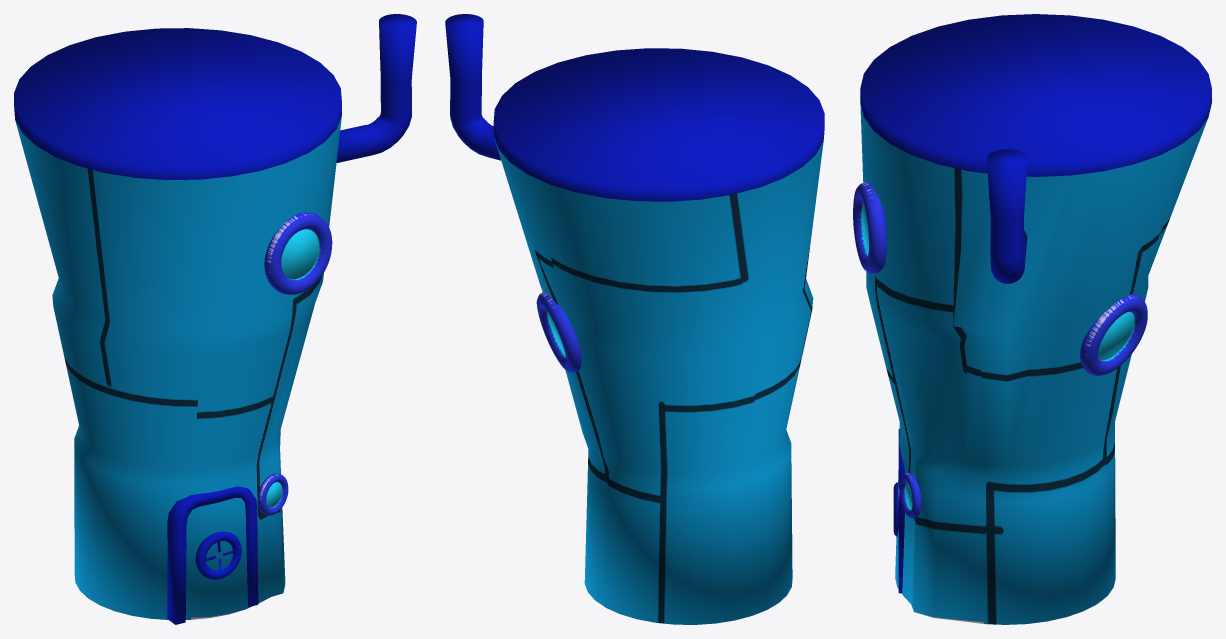
The model's file is BikiniBottomHouse1.fbx.
3 views of the same model, side by side, from view 1: azimuth 30°, elevation 25°; view 2: azimuth 150°, elevation 25°; view 3: azimuth 270°, elevation 25° (orthographic). The views are drawn at different scales.
Visible parts, largest first — view 1: Cylinder, Cylinder_001, Plane, Torus_001, Torus, Torus_002; view 2: Cylinder, Cylinder_001, Torus_003; view 3: Cylinder, Cylinder_001, Torus_003, Torus_001, Plane, Torus_002.
Boxes of the visible parts, box(x1,y1,x2,y2) form: Cylinder: box(14, 28, 341, 619); Cylinder_001: box(336, 14, 416, 162); Plane: box(167, 486, 258, 624); Torus_001: box(264, 212, 332, 294); Torus: box(195, 531, 241, 579); Torus_002: box(257, 473, 288, 515); Cylinder: box(493, 48, 824, 624); Cylinder_001: box(445, 14, 500, 160); Torus_003: box(536, 291, 581, 372); Cylinder: box(860, 14, 1211, 624); Cylinder_001: box(986, 149, 1027, 283); Torus_003: box(1080, 294, 1147, 375); Torus_001: box(853, 182, 886, 273); Plane: box(898, 429, 904, 593); Torus_002: box(900, 473, 921, 518).
Size of the model in its own units: 9.29 by 12.19 by 7.39.
